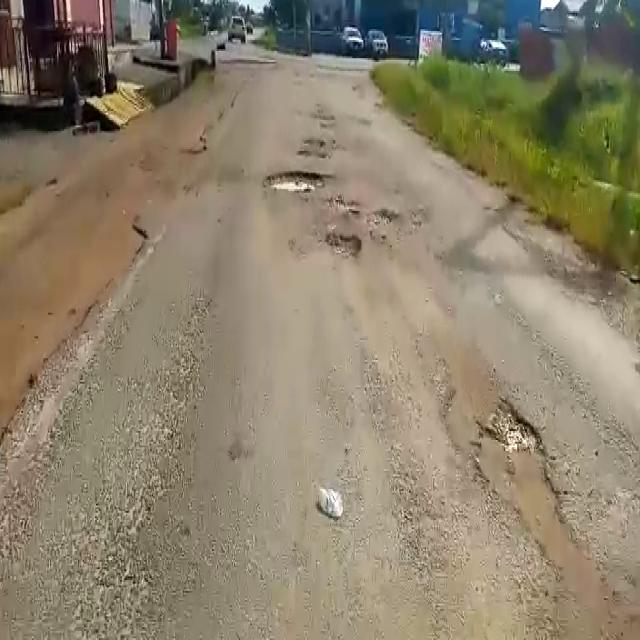Pothole: (474, 395, 584, 556), (263, 168, 323, 193), (319, 227, 362, 254)
